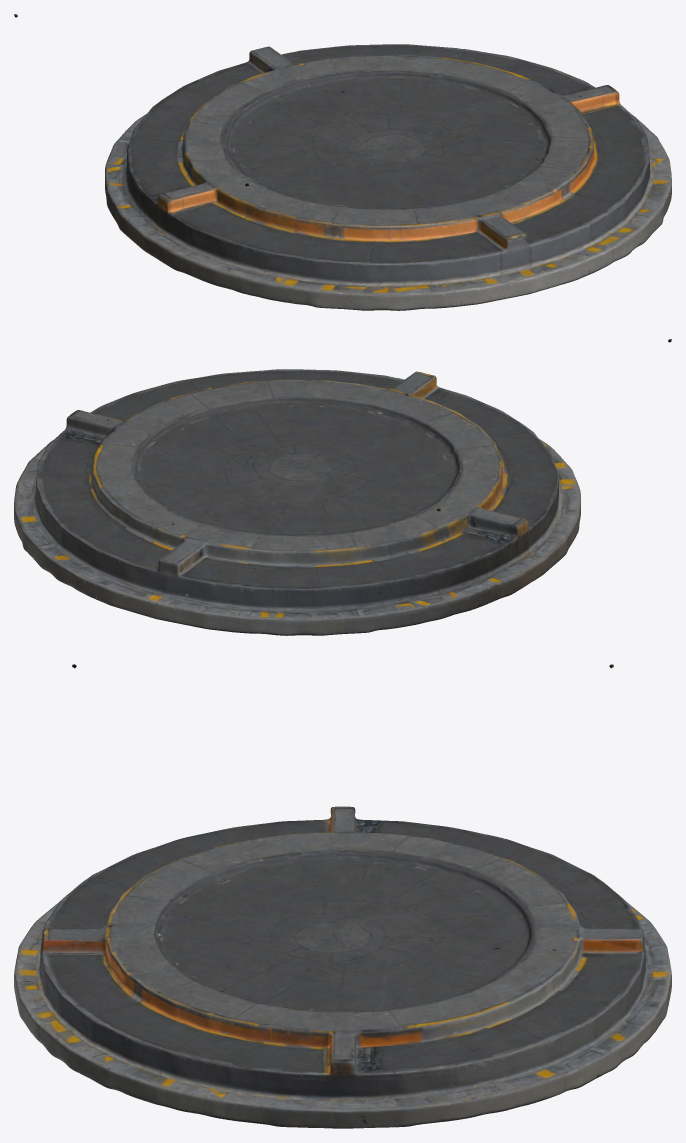
File: landingpad.glb
3 renders of one model, top to bottom at view 1: azimuth 30°, elevation 25°; view 2: azimuth 150°, elevation 25°; view 3: azimuth 270°, elevation 25°, orthographic. The views are drawn at different scales.
Size of the model in its own units: 2.05 by 0.6062 by 2.
1 material, 1 textured.
